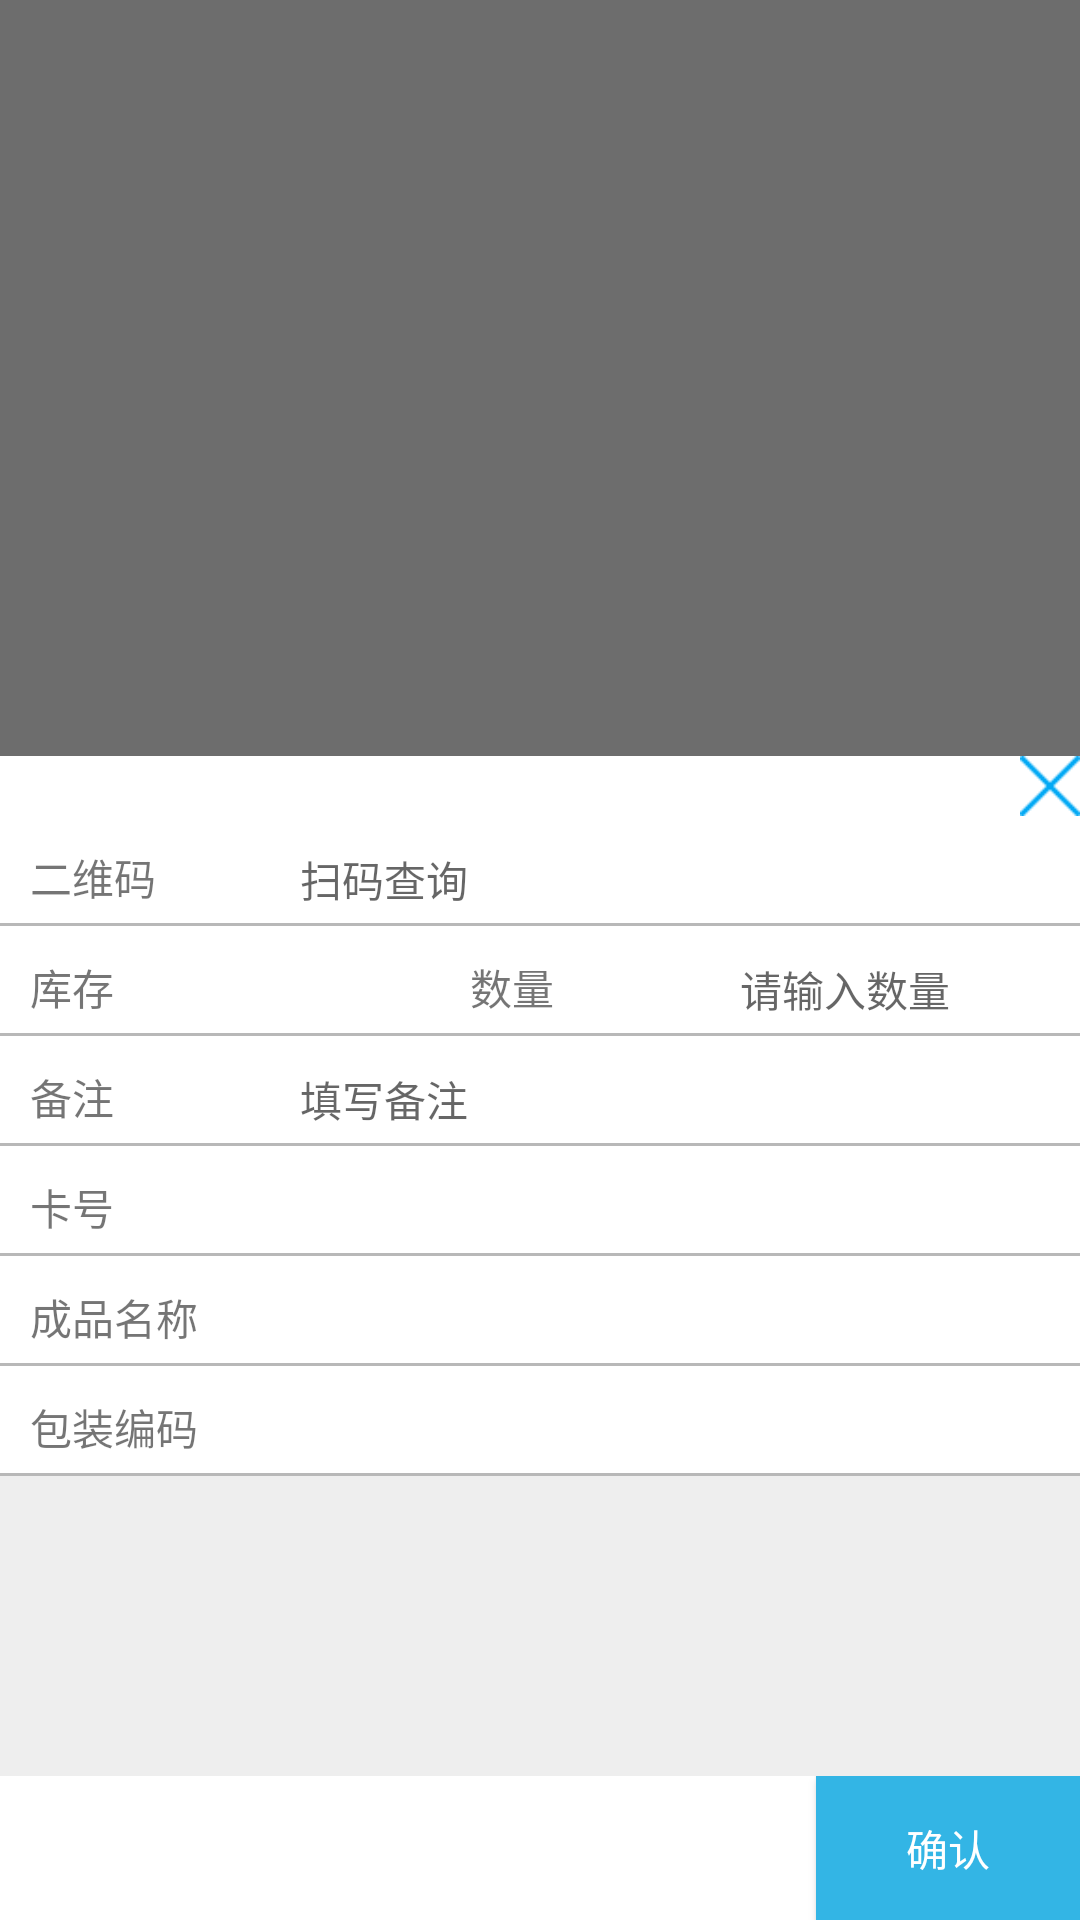

Icon bounding boxes for this 1080x1920 phone screenshot, format (x1, y1, x2, y2):
close: (1020, 756, 1080, 816)
